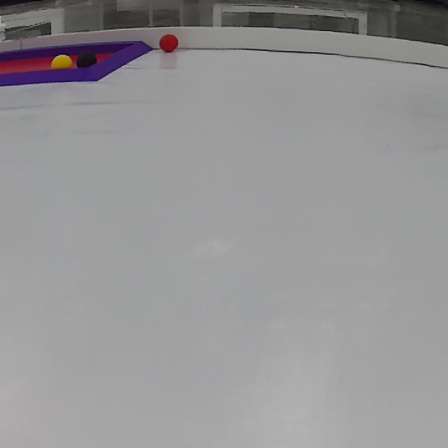black: (76, 54, 97, 69)
red: (160, 34, 178, 51)
red_aim: (0, 38, 154, 86)
yellow: (51, 55, 71, 69)
